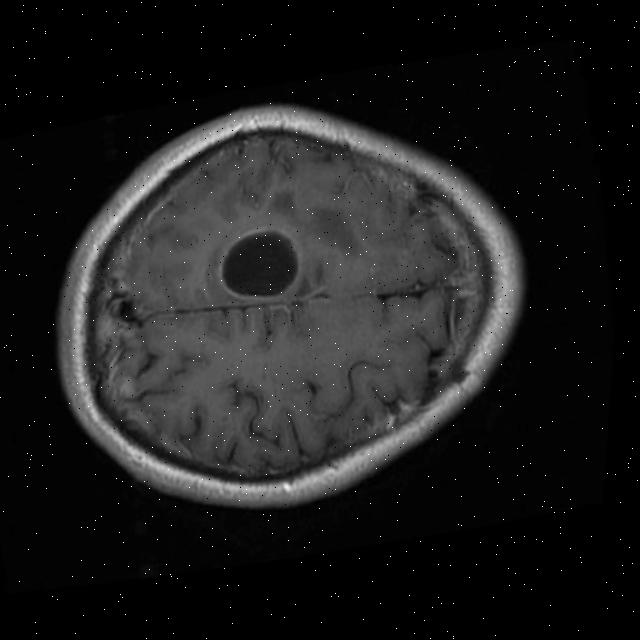Glioma: (209, 222, 308, 308)
